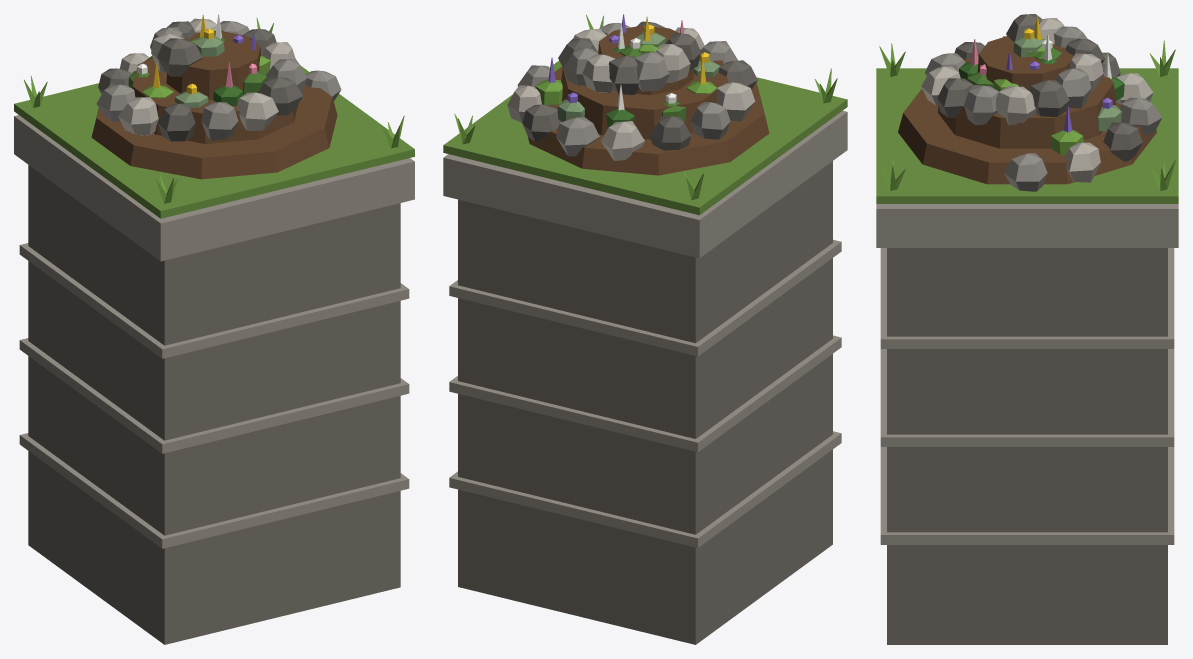
The model's file is decor_herb_spiral.glb.
3 renders of one model, left to right at view 1: azimuth 30°, elevation 25°; view 2: azimuth 150°, elevation 25°; view 3: azimuth 270°, elevation 25°, orthographic. The views are drawn at different scales.
Visible parts, largest first — view 1: decor_herb_spiral; view 2: decor_herb_spiral; view 3: decor_herb_spiral.
Part boxes in pixels (left/top/right/bottom): decor_herb_spiral: left=14, top=14, right=414, bottom=644; decor_herb_spiral: left=443, top=14, right=847, bottom=644; decor_herb_spiral: left=876, top=14, right=1178, bottom=644.
Bounding box in the file's own units: 2.8 × 5.79 × 2.8.
